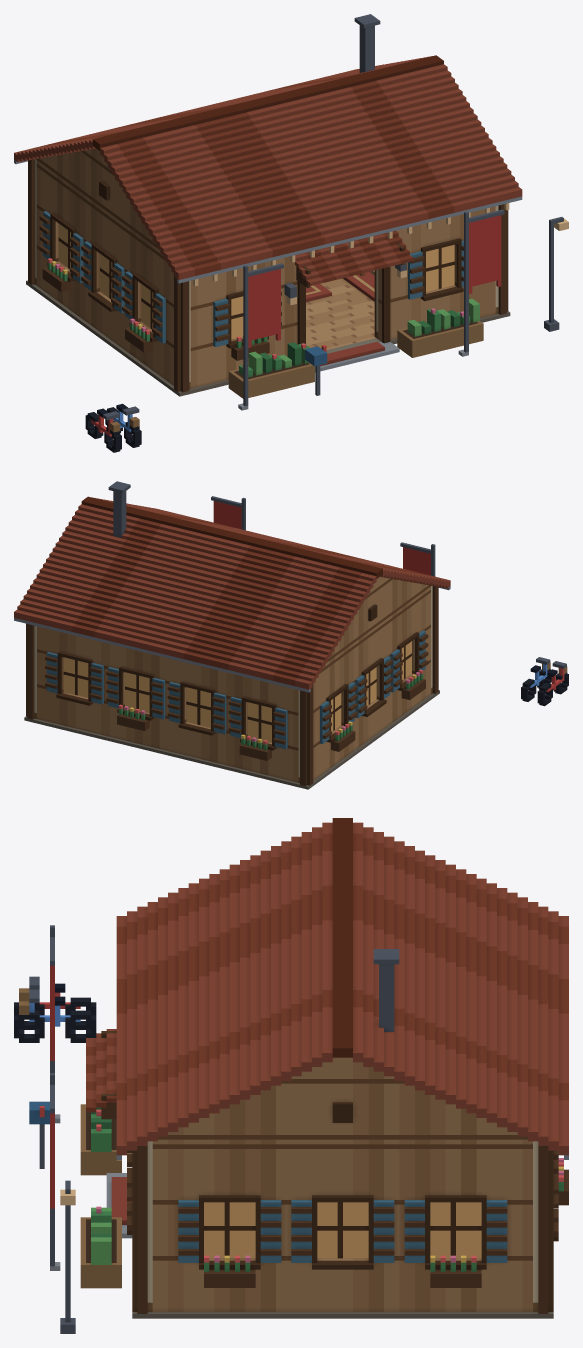
3 views of the same model, one above another, from view 1: azimuth 30°, elevation 25°; view 2: azimuth 150°, elevation 25°; view 3: azimuth 270°, elevation 25° (orthographic). The views are drawn at different scales.
Visible parts, largest first — view 1: CutRoof, Base, CutPZ, CutNX, CutNZ; view 2: CutRoof, CutNZ, Base, CutNX, CutPZ; view 3: CutRoof, CutPX, Base, CutPZ, CutNZ.
Part boxes in pixels (left/top/right/bottom): CutRoof: left=14, top=14, right=522, bottom=286; Base: left=26, top=209, right=568, bottom=452; CutPZ: left=174, top=204, right=508, bottom=361; CutNX: left=36, top=160, right=173, bottom=354; CutNZ: left=28, top=159, right=36, bottom=254; CutRoof: left=14, top=481, right=450, bottom=692; CutNZ: left=26, top=623, right=313, bottom=759; Base: left=24, top=496, right=568, bottom=789; CutNX: left=313, top=587, right=430, bottom=753; CutPZ: left=431, top=586, right=438, bottom=667; CutRoof: left=116, top=818, right=568, bottom=1160; CutPX: left=152, top=1139, right=532, bottom=1278; Base: left=14, top=925, right=568, bottom=1333; CutPZ: left=86, top=1029, right=152, bottom=1271; CutNZ: left=533, top=1141, right=568, bottom=1271.
Size of the model in its own units: 14.6 by 7.1 by 10.8.
